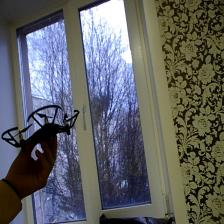drone: (0, 102, 86, 172)
